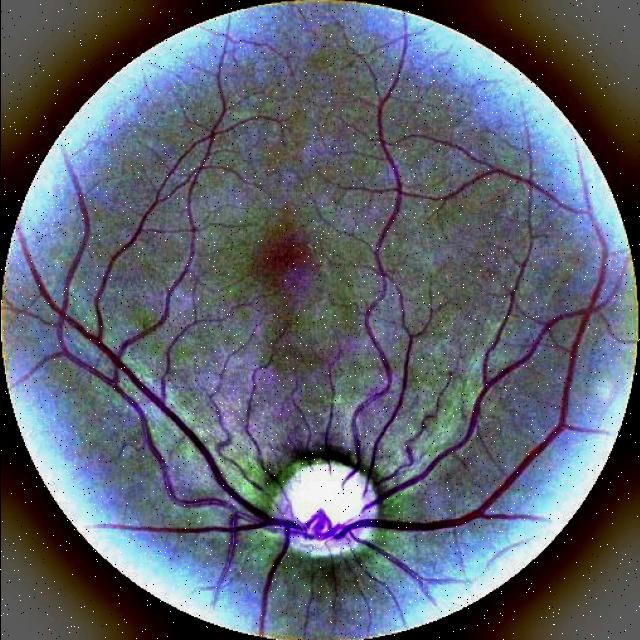Macula: (258, 232, 317, 295)
Nerves: (29, 244, 607, 554)
Optic Disk: (277, 462, 379, 560)
